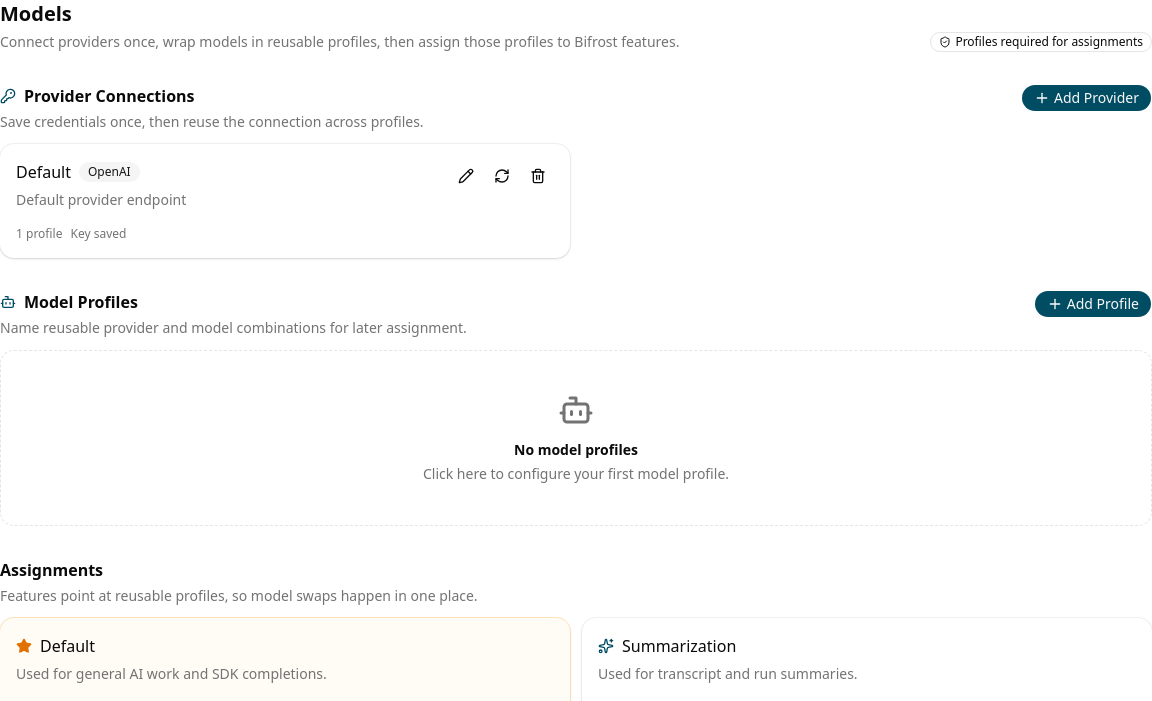
Test case: AIModelSettings › explains that the first profile becomes every assignment default
The image size is (1152, 701).
Click the button "Add Profile" at x=1093, y=304, box [1034,290,1151,318]
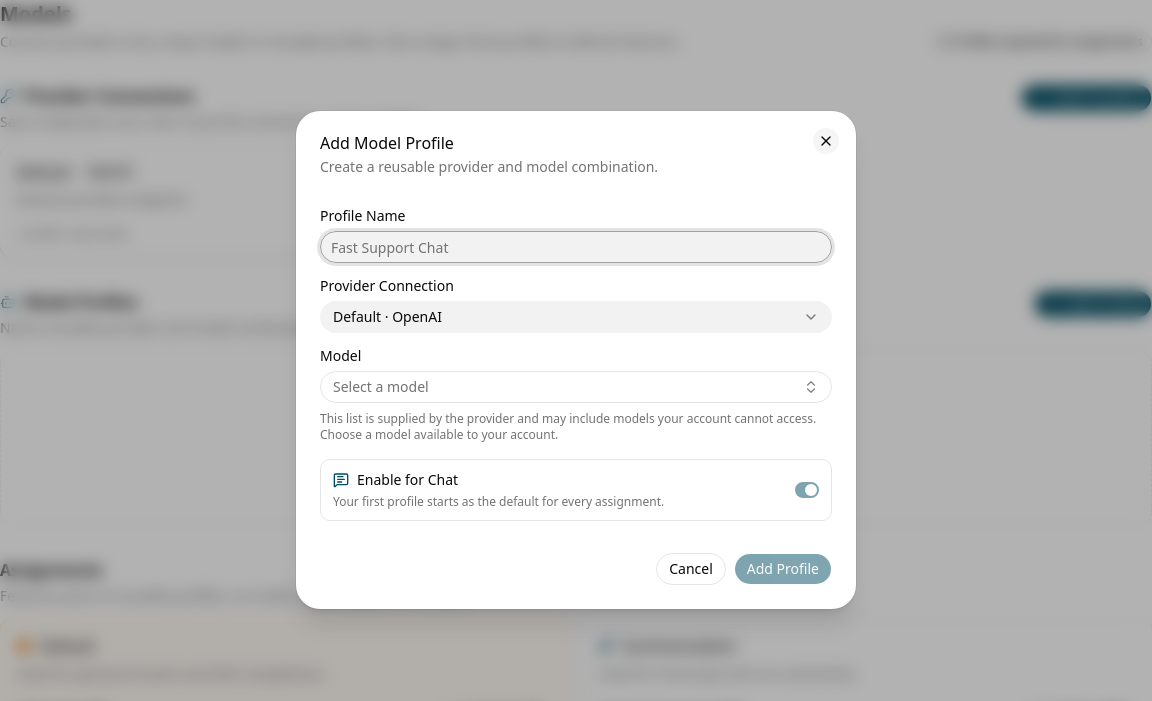
expect the text "Your first profile starts as the default for every assignment." is shown: met, box [333,494,664,510]
expect the switch is checked: met, box [795,482,819,498]
expect the switch is disabled: met, box [795,482,819,498]
